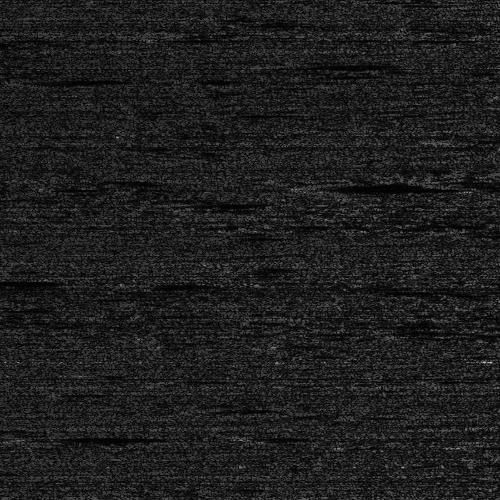object: (237, 59, 320, 68), (0, 433, 81, 442), (279, 179, 332, 188), (0, 76, 71, 81), (458, 355, 500, 360), (480, 165, 500, 170)
shadow: (306, 179, 423, 188), (279, 59, 370, 68), (40, 433, 119, 442), (0, 276, 65, 285), (34, 76, 127, 81), (485, 355, 500, 360)
